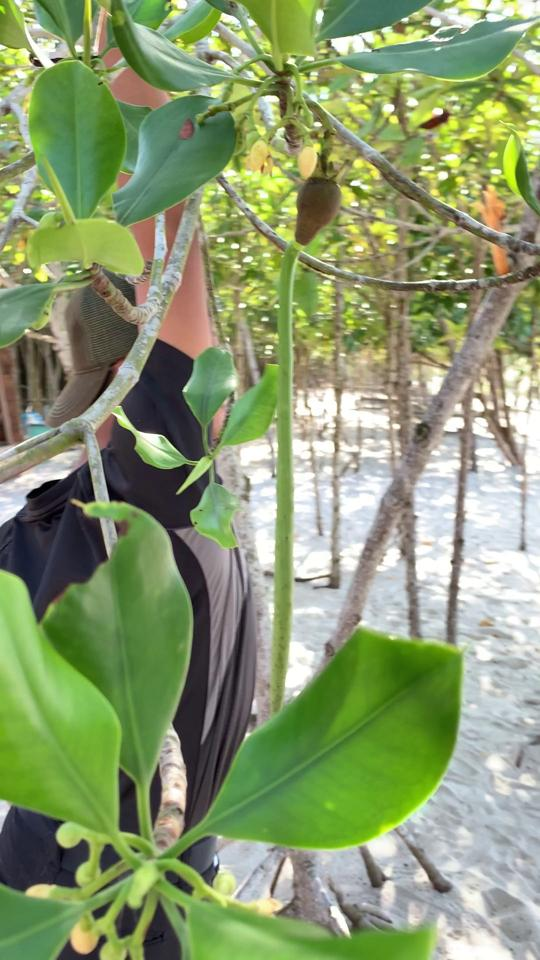setengah matang: (260, 148, 354, 719)
